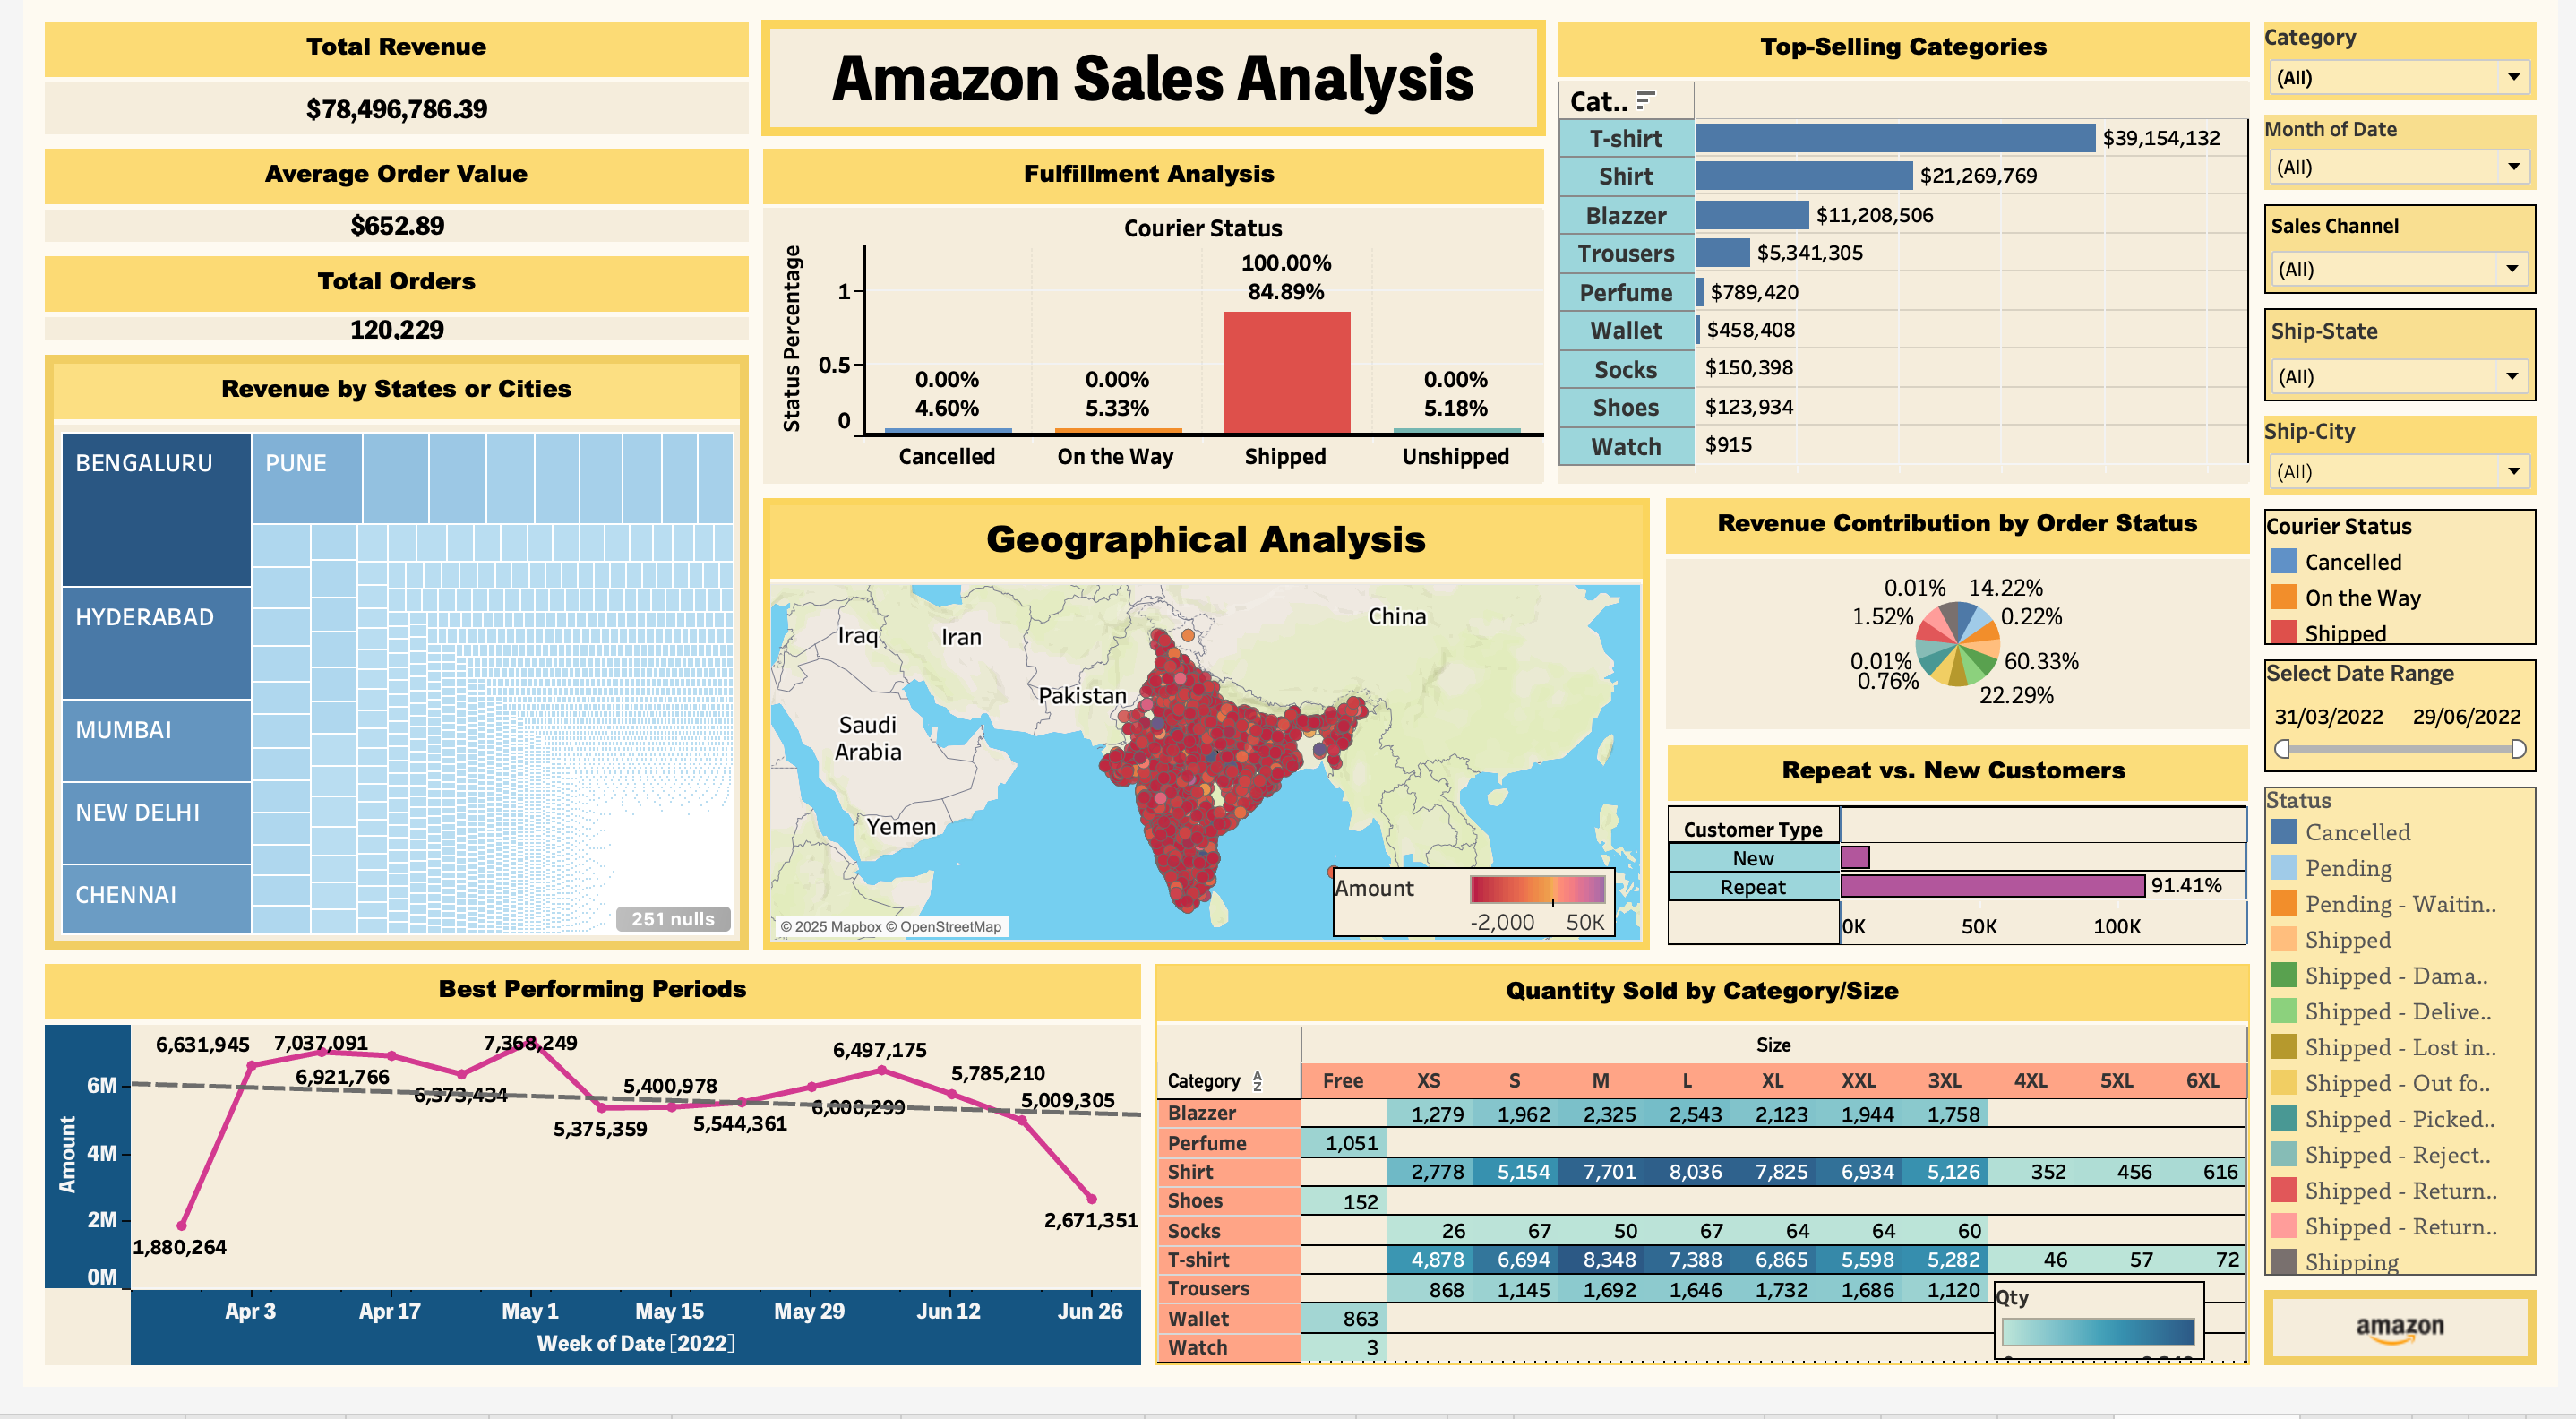

The dashboard page shown, as its layout file describes it:
{"tool":"tableau","page":{"name":"Dashboard 1","canvas":[1000,1000],"units":"permille","ordinal":0},"visuals":[{"type":"worksheet","title":"total revenue","mark":"Text","box":[8.5,15.5,281.9,90.4]},{"type":"text","box":[290.3,15.5,311.4,90.7]},{"type":"worksheet","title":"top selling categories","mark":"Bar","rows":["Category"],"cols":["Amount"],"box":[601.8,15.5,276.7,340.1]},{"type":"filter","title":"fulfilment analysis","param":"[federated.1iiza460xhohzs1dy3jcd0c82y71].[none:Category:nk]","box":[878.5,15.5,113.1,67.2]},{"type":"filter","title":"Sheet 10","param":"[federated.1iiza460xhohzs1dy3jcd0c82y71].[mn:Date:ok]","box":[878.5,82.7,113.1,64.6]},{"type":"worksheet","title":"Avg order value","mark":"Automatic","box":[8.5,105.9,281.9,91.7]},{"type":"worksheet","title":"fulfilment analysis","mark":"Bar","rows":["Calculation_642677773608579083"],"cols":["Courier Status"],"box":[290.3,106.2,311.4,249.4]},{"type":"filter","title":"top selling categories","param":"[federated.1iiza460xhohzs1dy3jcd0c82y71].[none:Sales Channel:nk]","box":[878.5,147.3,113.1,74.9]},{"type":"worksheet","title":"total orders","mark":"Automatic","box":[8.5,197.7,281.9,84]},{"type":"filter","title":"Sheet 12","param":"[federated.1iiza460xhohzs1dy3jcd0c82y71].[none:ship-state:nk]","box":[878.5,222.2,113.1,62]},{"type":"worksheet","title":"Sheet 12","mark":"Automatic","box":[8.5,281.6,281.9,405.7]},{"type":"filter","title":"Sheet 12","param":"[federated.1iiza460xhohzs1dy3jcd0c82y71].[none:ship-city:nk]","box":[878.5,284.3,113.1,56.9]},{"type":"legend","title":"fulfilment analysis","param":"[federated.1iiza460xhohzs1dy3jcd0c82y71].[none:Courier Status:nk]","box":[878.5,341.1,113.1,108.5]},{"type":"worksheet","title":"Geographical Analysis","mark":"Multipolygon","box":[290.3,355.6,353.4,331.7]},{"type":"worksheet","title":"Sheet 11","mark":"Pie","box":[643.7,355.6,234.8,175.4]},{"type":"filter","title":"top selling categories","param":"[federated.1iiza460xhohzs1dy3jcd0c82y71].[none:Date:qk]","box":[878.5,449.6,113.1,95.6]},{"type":"worksheet","title":"R Vs N","mark":"Automatic","rows":["Calculation_642677773617025037"],"cols":["Order ID"],"box":[643.7,531,234.8,156.3]},{"type":"legend","title":"Sheet 11","param":"[federated.1iiza460xhohzs1dy3jcd0c82y71].[none:Status:nk]","box":[878.5,545.2,113.1,363.1]},{"type":"legend","title":"Geographical Analysis","param":"[federated.1iiza460xhohzs1dy3jcd0c82y71].[sum:Amount:qk]","box":[516.5,625.3,111.8,50.4]},{"type":"worksheet","title":"Sheet 10","mark":"Automatic","rows":["Amount"],"cols":["Date"],"box":[8.5,687.3,435.2,297.2]},{"type":"worksheet","title":"Quantity sold by cat","mark":"Square","rows":["Category"],"cols":["Size"],"box":[443.7,687.3,434.8,297.2]},{"type":"image","param":"/Users/parle/Downloads/Amazon Flipkart Logo.png","box":[878.5,908.3,113.1,76.2]},{"type":"legend","title":"Quantity sold by cat","param":"[federated.1iiza460xhohzs1dy3jcd0c82y71].[sum:Qty:qk]","box":[777.2,923.8,83.5,56.9]}]}

Visuals, with their boxes on the dashboard's canvas, which has no fixed pixel size, in thousandths of its width and height (x1, y1, x2, y2). These are canvas units, not pixel positions in the 2576x1419 screenshot, which may show the page scaled, cropped or inside an application window:
"total revenue" worksheet (Text marks): <region>8, 16, 290, 106</region>
text: <region>290, 16, 602, 106</region>
"top selling categories" worksheet (Bar marks): <region>602, 16, 878, 356</region>
"fulfilment analysis" filter: <region>878, 16, 992, 83</region>
"Sheet 10" filter: <region>878, 83, 992, 147</region>
"Avg order value" worksheet: <region>8, 106, 290, 198</region>
"fulfilment analysis" worksheet (Bar marks): <region>290, 106, 602, 356</region>
"top selling categories" filter: <region>878, 147, 992, 222</region>
"total orders" worksheet: <region>8, 198, 290, 282</region>
"Sheet 12" filter: <region>878, 222, 992, 284</region>
"Sheet 12" worksheet: <region>8, 282, 290, 687</region>
"Sheet 12" filter: <region>878, 284, 992, 341</region>
"fulfilment analysis" legend: <region>878, 341, 992, 450</region>
"Geographical Analysis" worksheet (Multipolygon marks): <region>290, 356, 644, 687</region>
"Sheet 11" worksheet (Pie marks): <region>644, 356, 878, 531</region>
"top selling categories" filter: <region>878, 450, 992, 545</region>
"R Vs N" worksheet: <region>644, 531, 878, 687</region>
"Sheet 11" legend: <region>878, 545, 992, 908</region>
"Geographical Analysis" legend: <region>516, 625, 628, 676</region>
"Sheet 10" worksheet: <region>8, 687, 444, 984</region>
"Quantity sold by cat" worksheet (Square marks): <region>444, 687, 878, 984</region>
image: <region>878, 908, 992, 984</region>
"Quantity sold by cat" legend: <region>777, 924, 861, 981</region>
